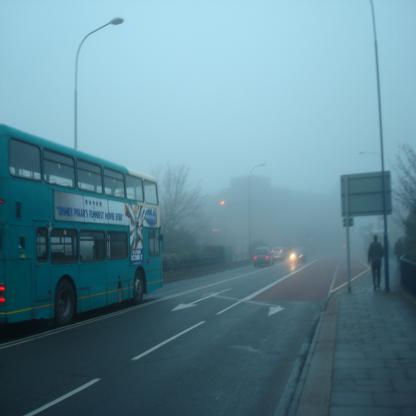Bus: (0, 123, 165, 328)
